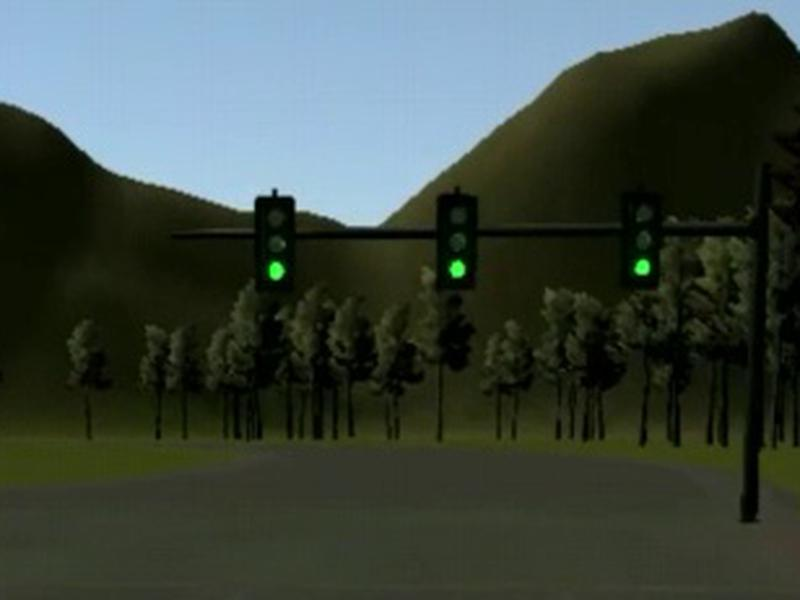Green: (436, 194, 479, 290), (620, 191, 660, 288), (255, 197, 295, 293)
